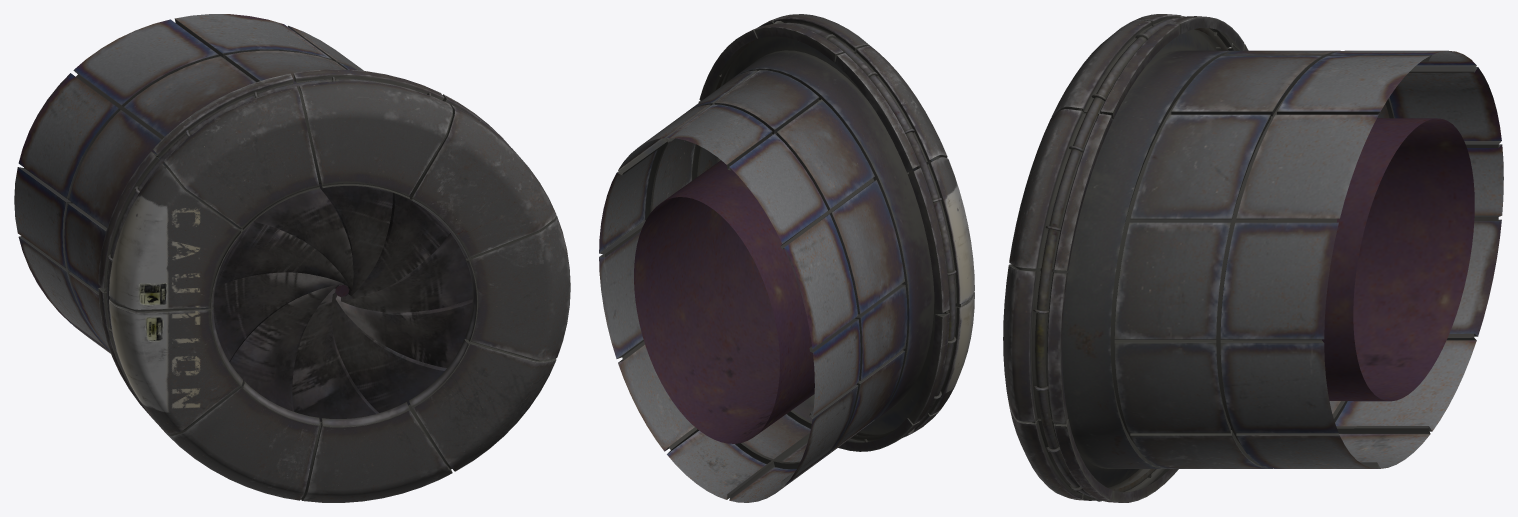
File: Glados_aperture_Incinerator_door.obj
3 renders of one model, left to right at view 1: azimuth 30°, elevation 25°; view 2: azimuth 150°, elevation 25°; view 3: azimuth 270°, elevation 25°, orthographic. The views are drawn at different scales.
Visible parts, largest first — view 1: mesh0; view 2: mesh0; view 3: mesh0.
Boxes of the visible parts, x1,y1,x2,y2 form: mesh0: [14, 14, 570, 502]; mesh0: [599, 14, 974, 502]; mesh0: [1003, 14, 1503, 502].
Bounding box in the file's own units: 190 × 206 × 209.
1 material, 1 textured.
